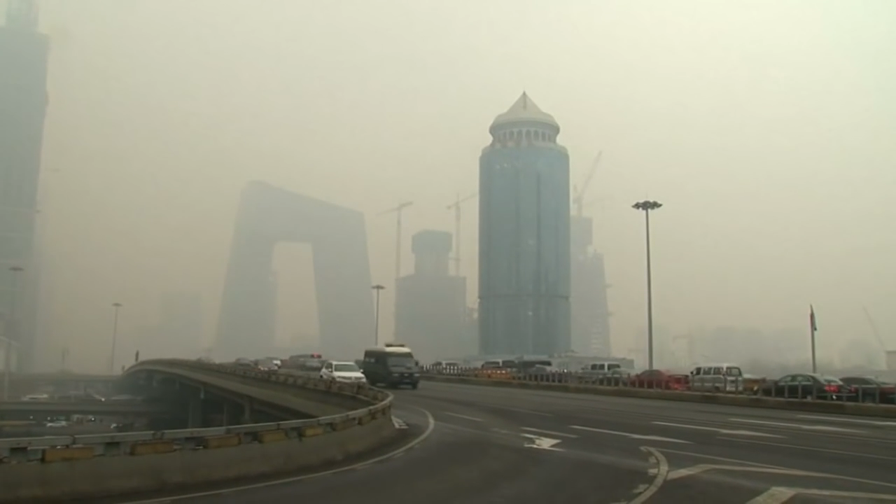car: (752, 370, 857, 408), (361, 342, 423, 390), (823, 373, 896, 406), (683, 365, 744, 393), (319, 359, 367, 392), (627, 367, 691, 390), (577, 359, 623, 386), (479, 357, 517, 380), (425, 359, 463, 376), (252, 357, 281, 375), (296, 354, 322, 371), (46, 418, 70, 429), (233, 356, 252, 369)
